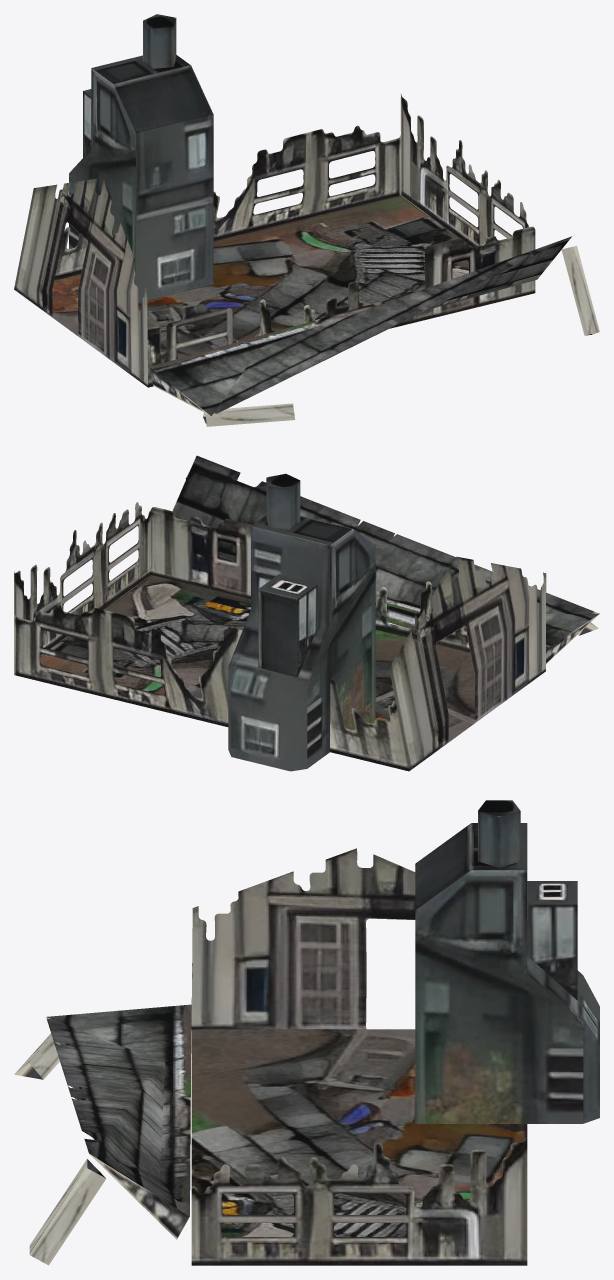
Rendered from tinshack_dam_hdtex.glb.
3 views of the same model, one above another, from view 1: azimuth 30°, elevation 25°; view 2: azimuth 150°, elevation 25°; view 3: azimuth 270°, elevation 25° (orthographic). The views are drawn at different scales.
Parts seen in each view (by area): view 1: TinShackDamaged; view 2: TinShackDamaged; view 3: TinShackDamaged.
Boxes of the visible parts, x1,y1,x2,y2 form: TinShackDamaged: (14, 14, 599, 426); TinShackDamaged: (14, 455, 599, 771); TinShackDamaged: (14, 800, 599, 1265).
Size of the model in its own units: 14.68 by 8.79 by 15.35.
Materials: 1 (1 with a texture image).
